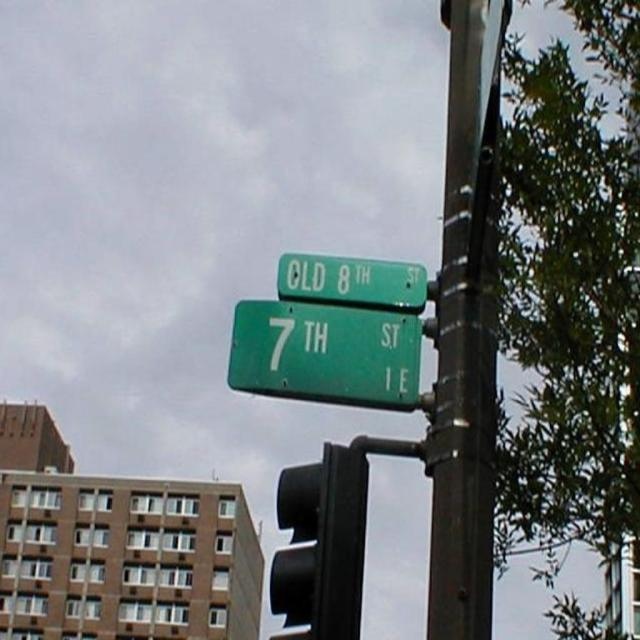off traffic light: (271, 435, 367, 640)
